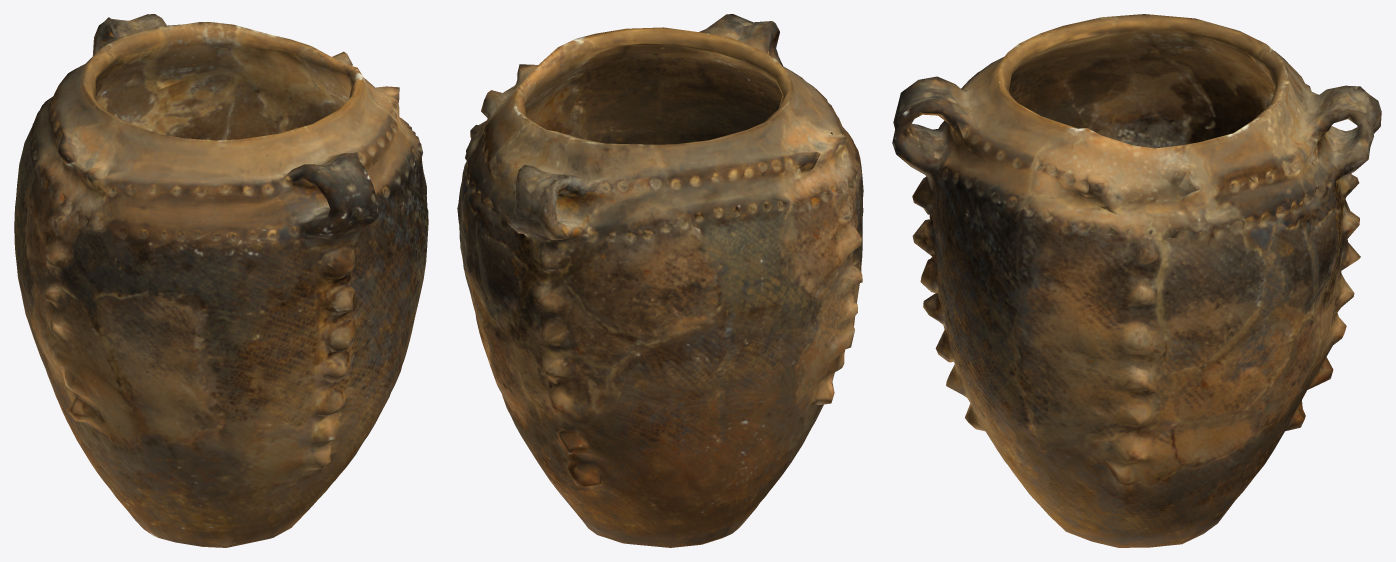
The picture shows the model from 3 angles, left to right: view 1: azimuth 30°, elevation 25°; view 2: azimuth 150°, elevation 25°; view 3: azimuth 270°, elevation 25°; orthographic projection. The views are drawn at different scales.
Visible parts, largest first — view 1: NM0156.low; view 2: NM0156.low; view 3: NM0156.low.
Part boxes in pixels (left/top/right/bottom): NM0156.low: left=14, top=14, right=428, bottom=547; NM0156.low: left=457, top=14, right=863, bottom=547; NM0156.low: left=892, top=14, right=1381, bottom=547.
Size of the model in its own units: 214 by 235 by 235.
Materials: 1 (1 with a texture image).
